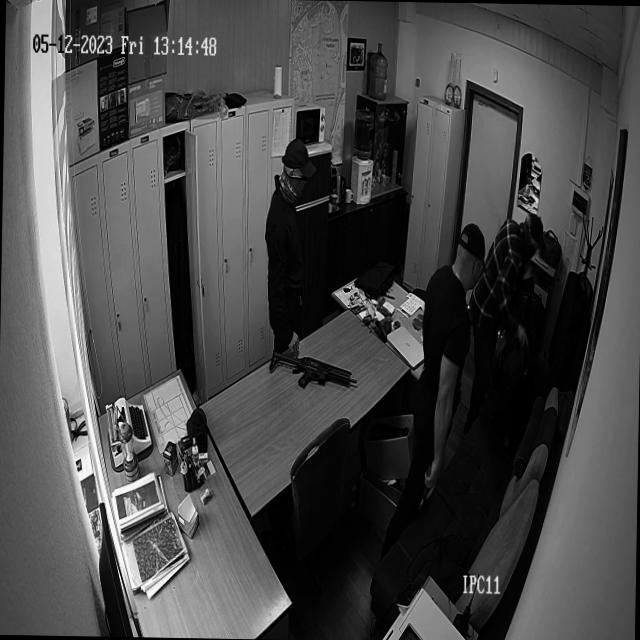gun: (269, 350, 357, 390), (418, 464, 438, 514)
person: (476, 215, 536, 392), (264, 140, 311, 350)
person with a gun: (410, 224, 480, 514)
